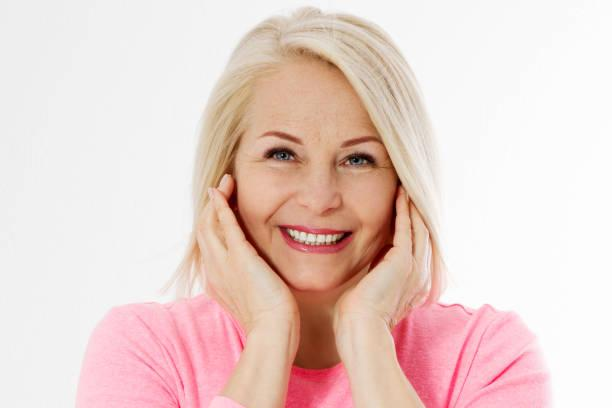Dry-Skin: (276, 81, 356, 134)
